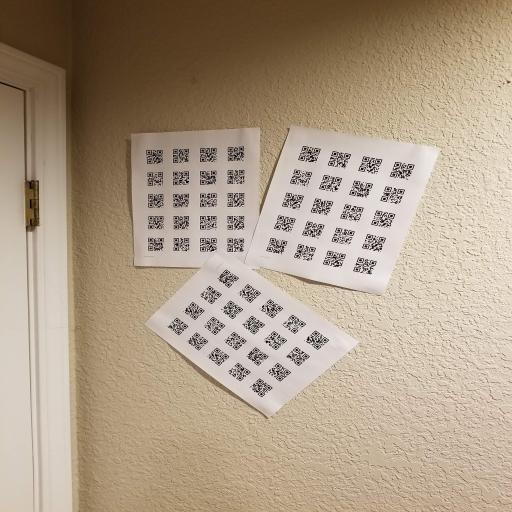qr_code: (284, 344, 312, 368), (302, 328, 331, 350), (265, 360, 292, 382), (281, 315, 306, 334), (362, 234, 386, 253), (259, 299, 283, 318), (263, 331, 287, 350), (245, 347, 269, 366), (249, 378, 273, 397), (390, 162, 415, 180), (380, 186, 405, 204), (226, 363, 251, 381), (238, 284, 261, 303), (220, 300, 243, 319), (242, 316, 265, 335), (224, 331, 247, 350), (358, 156, 382, 174), (349, 180, 373, 198), (371, 210, 395, 228), (217, 269, 239, 288), (340, 204, 363, 222), (207, 348, 230, 366), (353, 257, 377, 274), (187, 332, 208, 351), (302, 221, 324, 239), (200, 286, 222, 304), (204, 317, 226, 335), (298, 146, 321, 163), (328, 151, 351, 168), (319, 175, 342, 192), (332, 228, 355, 245), (184, 302, 205, 320), (290, 169, 312, 186), (311, 198, 333, 215), (274, 215, 296, 232), (266, 238, 288, 255), (294, 244, 316, 261), (323, 251, 346, 267), (168, 318, 189, 335), (282, 193, 304, 209), (200, 170, 217, 185), (200, 193, 217, 208), (227, 170, 245, 184), (227, 193, 245, 207), (228, 146, 244, 161), (146, 150, 163, 164), (200, 148, 217, 162), (200, 216, 217, 230), (227, 216, 244, 230), (200, 238, 217, 252), (227, 238, 244, 252), (173, 149, 189, 163), (147, 172, 163, 186), (173, 171, 189, 185), (148, 194, 164, 208), (173, 194, 189, 208), (173, 216, 189, 230), (148, 216, 164, 229), (148, 238, 164, 251), (173, 238, 189, 251)
